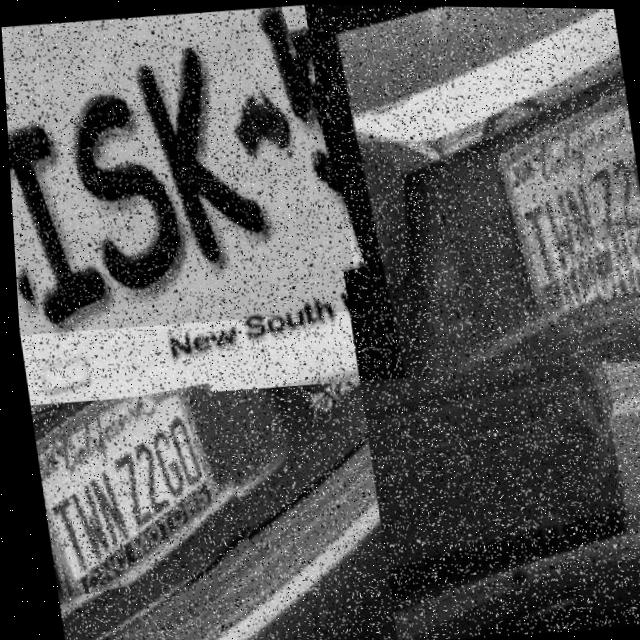LicensePlate: (0, 0, 357, 339), (23, 383, 244, 594)
